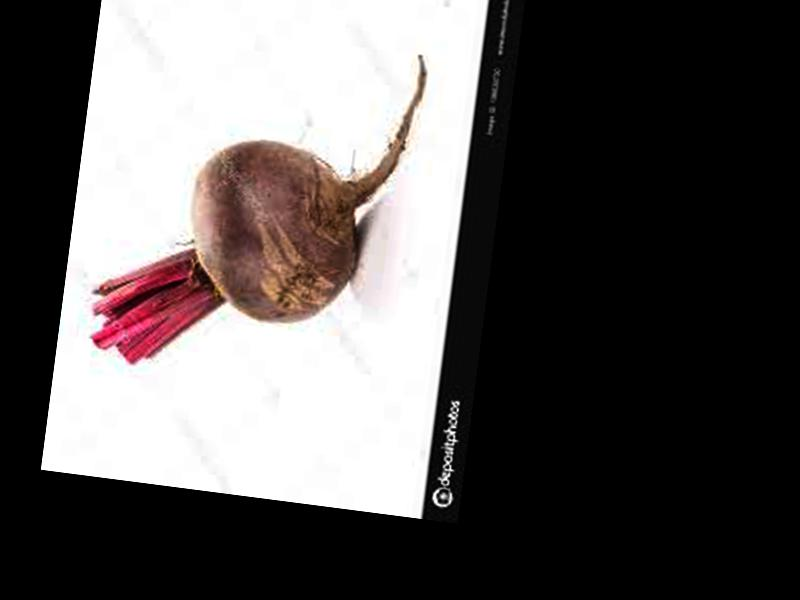Beet: (86, 17, 427, 393)
